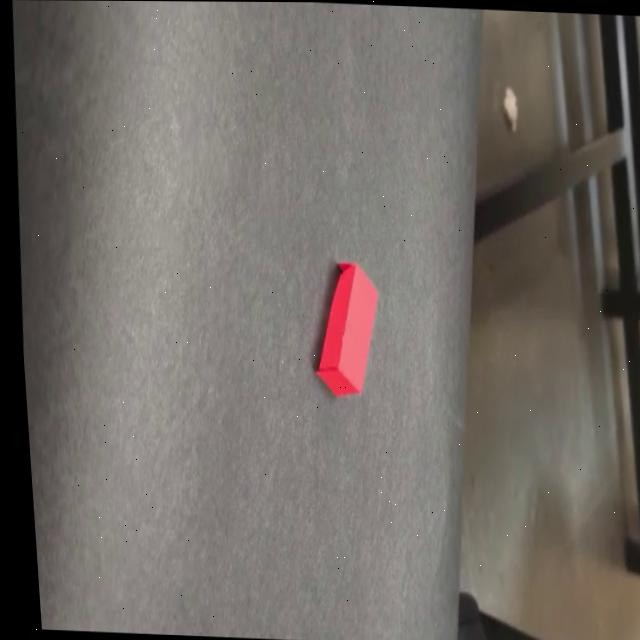red block: (306, 261, 387, 400)
